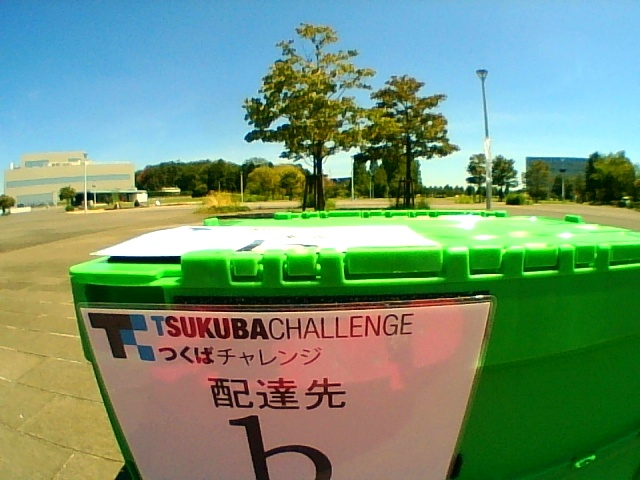green_box: (69, 210, 640, 480)
tag_b: (147, 311, 446, 480)
